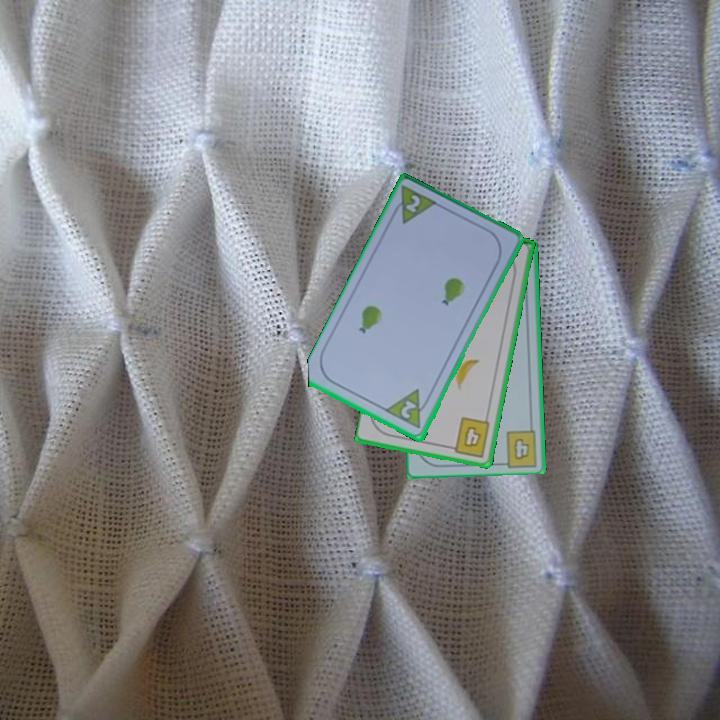2p: (387, 183, 441, 228), (383, 386, 434, 432)
4b: (445, 414, 493, 460), (510, 435, 533, 463)
